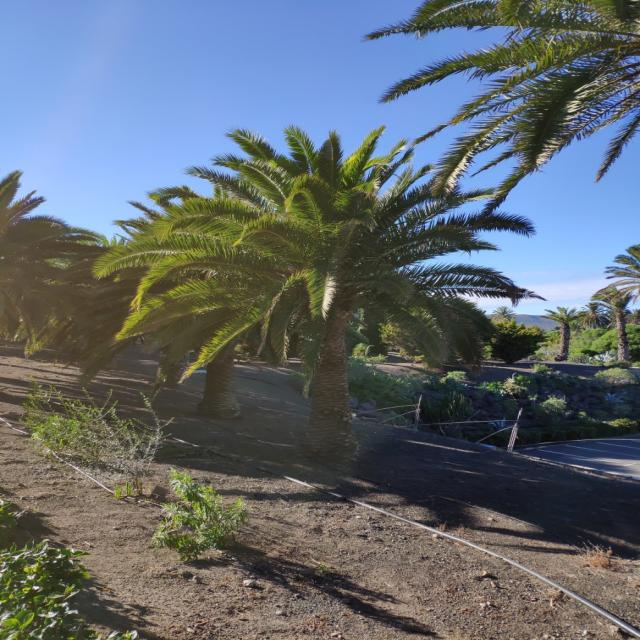Palm-Trees: (150, 133, 524, 463)
